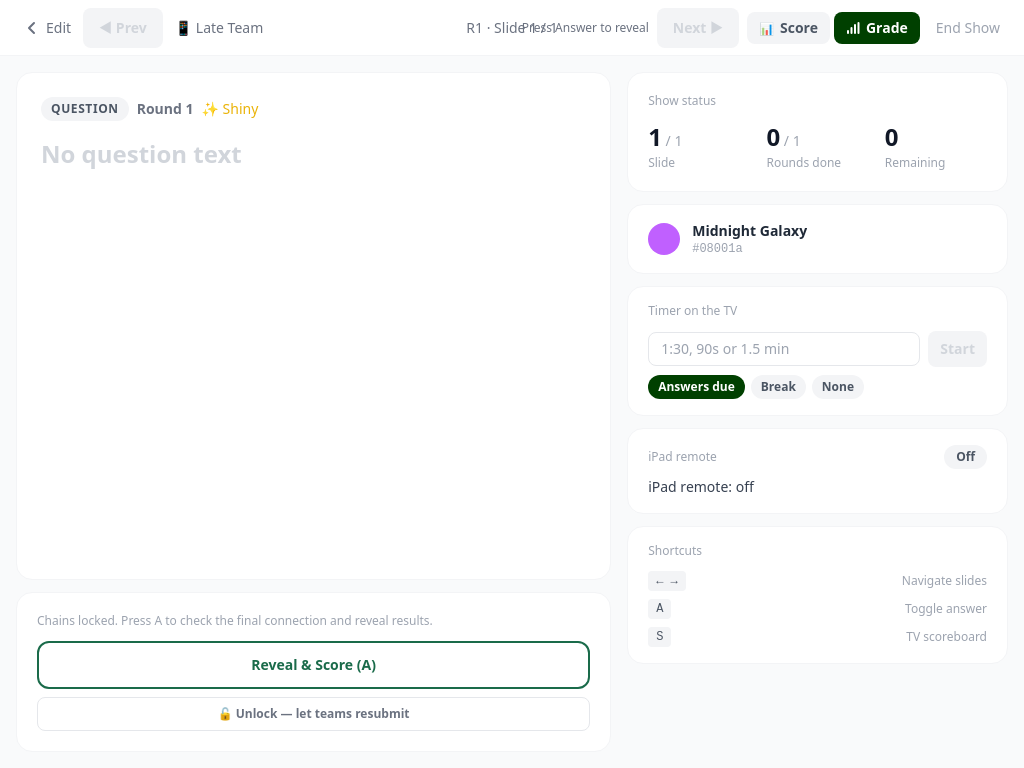
Test: Movie Chain host flows › a Wikidata outage keeps the reveal pending: no verdict, no points, retry message
Step 1. Click the button "Reveal & Score (A)" → [314, 665], box [37,641,590,689]
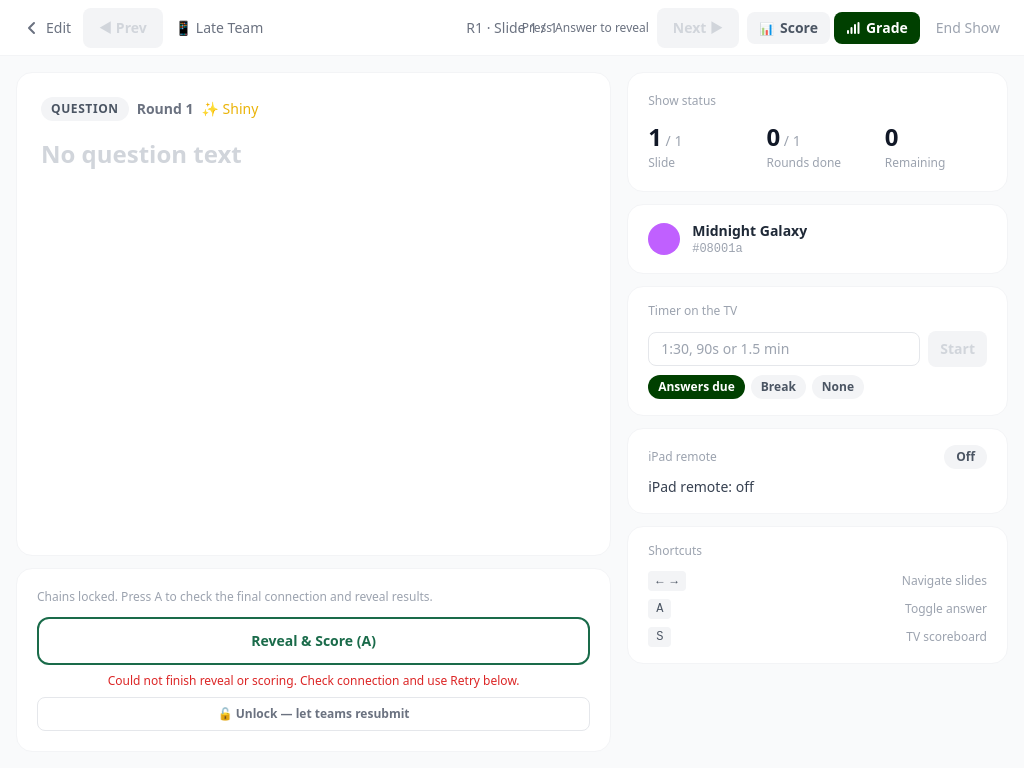
Expected: the text "Could not finish reveal or scoring" is shown, [108,672,520,689]
